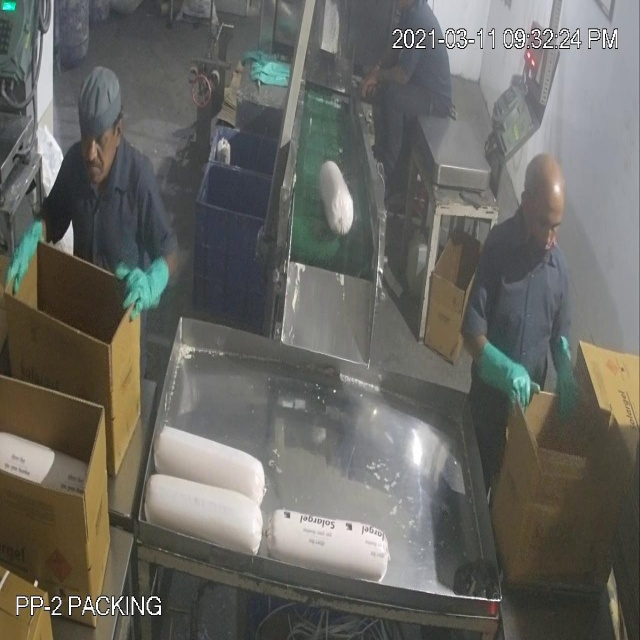Guantes: (472, 321, 543, 421), (549, 316, 594, 430), (117, 236, 173, 325), (7, 209, 51, 300)
Sin_guantes: (357, 50, 419, 112)
